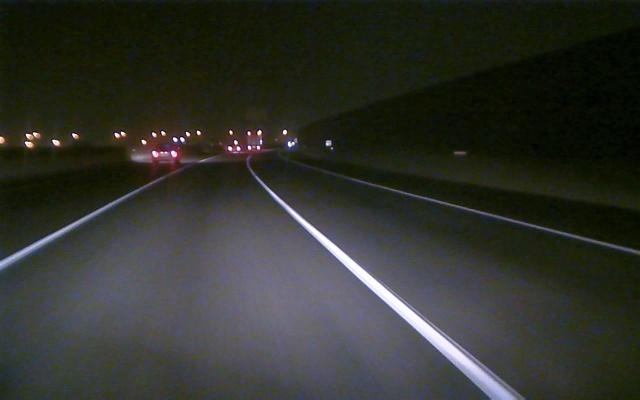lane: (256, 179, 524, 399), (345, 176, 640, 257), (2, 180, 157, 269)
